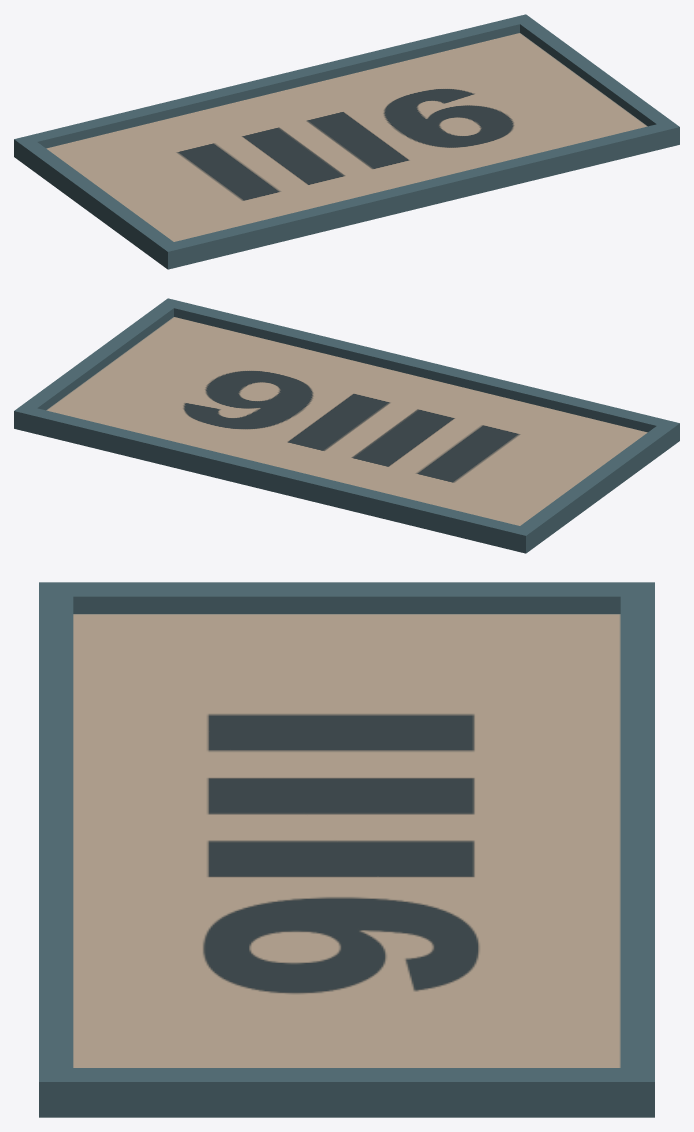
The model's file is Sign_III6.glb.
The picture shows the model from 3 angles, top to bottom: view 1: azimuth 30°, elevation 25°; view 2: azimuth 150°, elevation 25°; view 3: azimuth 270°, elevation 25°; orthographic projection. The views are drawn at different scales.
Parts seen in each view (by area): view 1: III6; view 2: III6; view 3: III6.
Boxes of the visible parts, <box> form: III6: <box>14,14,679,269</box>; III6: <box>14,298,679,553</box>; III6: <box>39,582,654,1117</box>.
Bounding box in the file's own units: 3.84 × 0.1273 × 2.
1 material, 1 textured.
